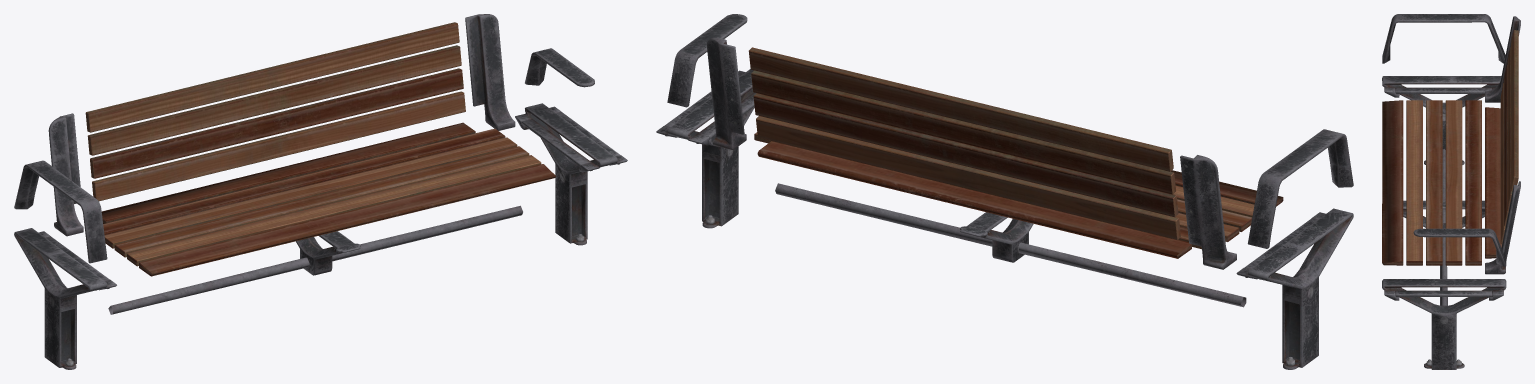
The model's file is polyhaven-street-bench.glb.
3 views of the same model, side by side, from view 1: azimuth 30°, elevation 25°; view 2: azimuth 150°, elevation 25°; view 3: azimuth 270°, elevation 25° (orthographic). The views are drawn at different scales.
Visible parts, largest first — view 1: seat, crossbar, legs_double; view 2: seat, crossbar, legs_double; view 3: seat, legs_double, crossbar.
Part boxes in pixels (x1=…): seat: x1=85, y1=22, x2=556, y2=276; crossbar: x1=14, y1=14, x2=594, y2=314; legs_double: x1=14, y1=103, x2=627, y2=369; seat: x1=748, y1=47, x2=1283, y2=258; crossbar: x1=667, y1=14, x2=1353, y2=307; legs_double: x1=656, y1=69, x2=1353, y2=369; seat: x1=1382, y1=30, x2=1518, y2=265; legs_double: x1=1382, y1=76, x2=1506, y2=369; crossbar: x1=1382, y1=14, x2=1520, y2=305.
Bounding box in the file's own units: 2.45 × 0.8669 × 0.6704.
3 materials, 3 textured.
